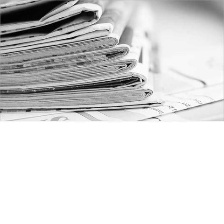news_paper: (0, 0, 167, 110)
